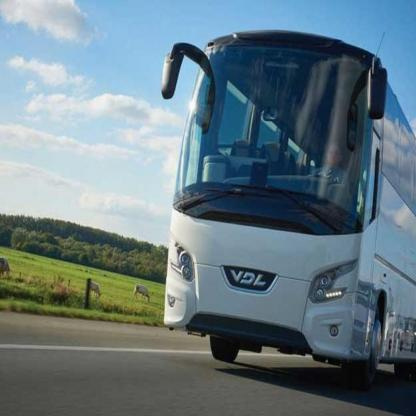Bus: (149, 23, 416, 393)
